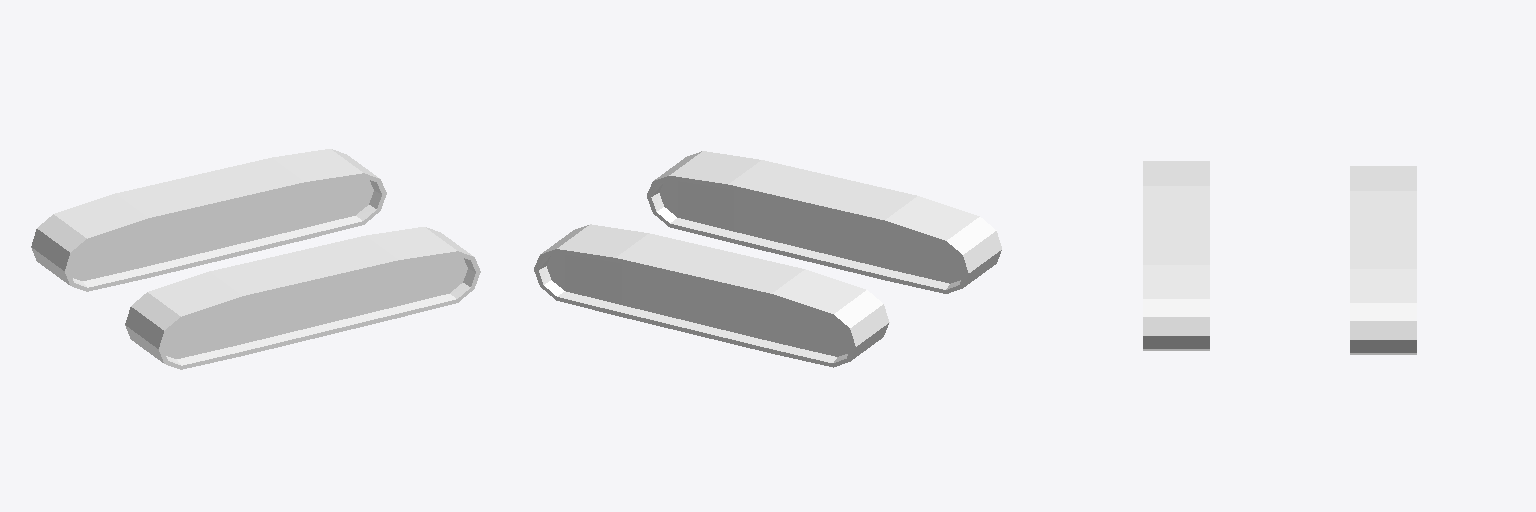
Rendered from Excavadora_11.obj.
3 renders of one model, left to right at view 1: azimuth 30°, elevation 25°; view 2: azimuth 150°, elevation 25°; view 3: azimuth 270°, elevation 25°, orthographic.
Parts seen in each view (by area): view 1: fangchangwatuji_Mesh_sep93; view 2: fangchangwatuji_Mesh_sep93; view 3: fangchangwatuji_Mesh_sep93.
Part boxes in pixels (x1,y1,x2,y2): fangchangwatuji_Mesh_sep93: (31,149,480,369); fangchangwatuji_Mesh_sep93: (534,151,1001,367); fangchangwatuji_Mesh_sep93: (1143,161,1416,354).
Bounding box in the file's own units: 4.29 × 0.7394 × 3.07.